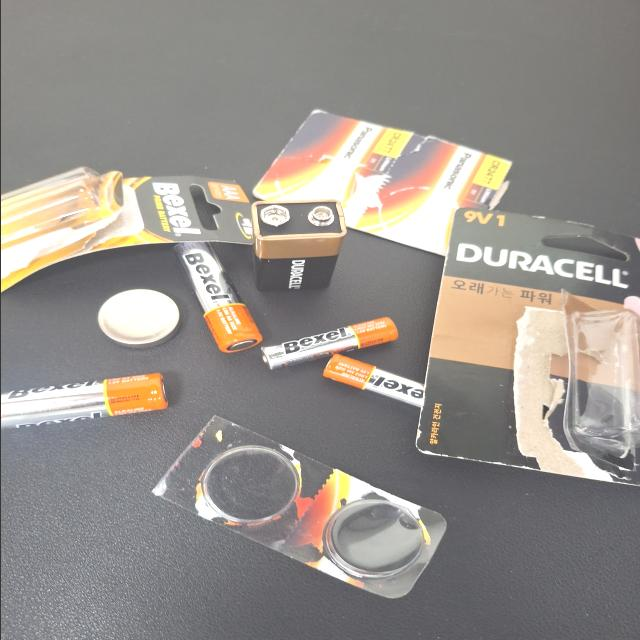9V: (252, 188, 376, 258)
AA: (170, 131, 317, 196), (70, 0, 142, 125)
AAA: (148, 195, 218, 298), (96, 242, 169, 318)
COIN: (177, 72, 256, 136)
